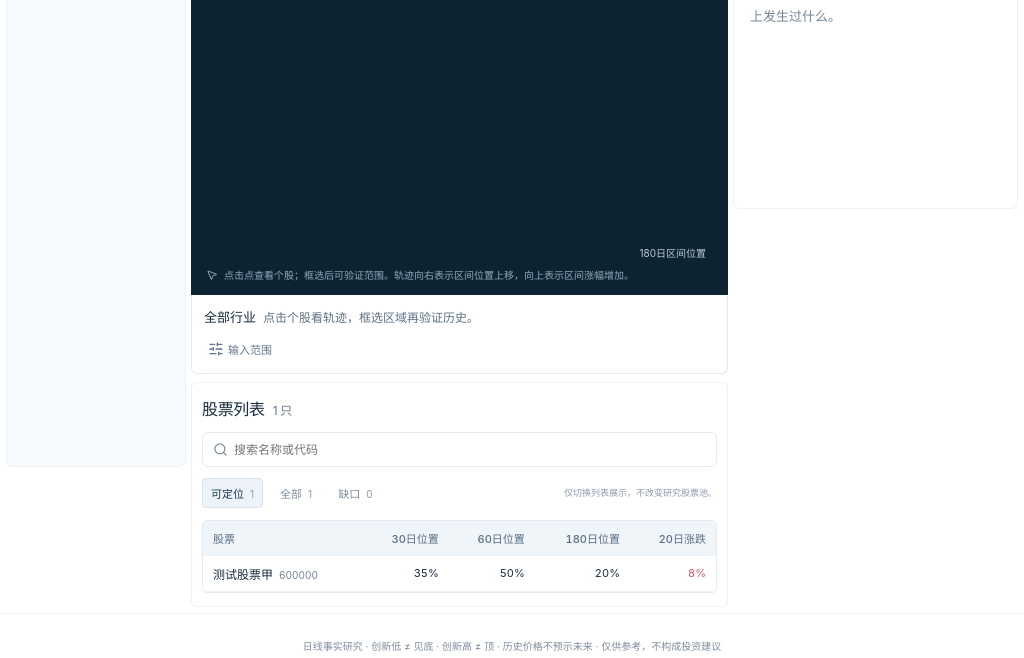
Scenario: trend discovery to reproducible research › makes shape distance an explicit choice and carries the selected reference into frozen research
The image size is (1024, 658).
(page scrolled)
Click the button with aria-label "查看 测试股票甲 600000": (265, 573) x1=213 y1=565 x2=318 y2=582
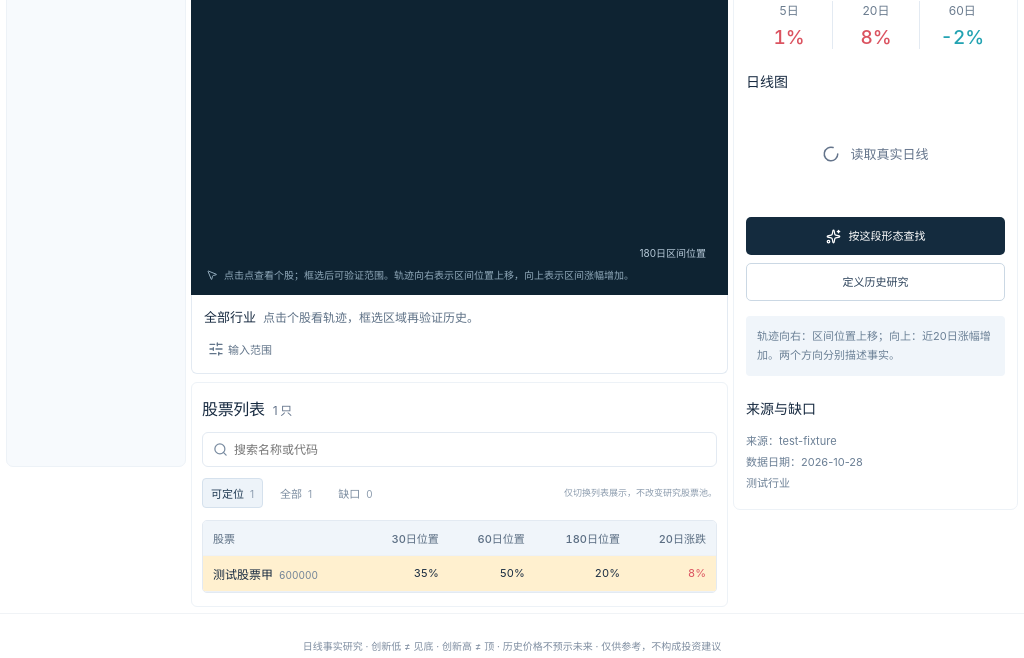
Click the button "按这段形态查找": (876, 236) x1=746 y1=218 x2=1005 y2=256
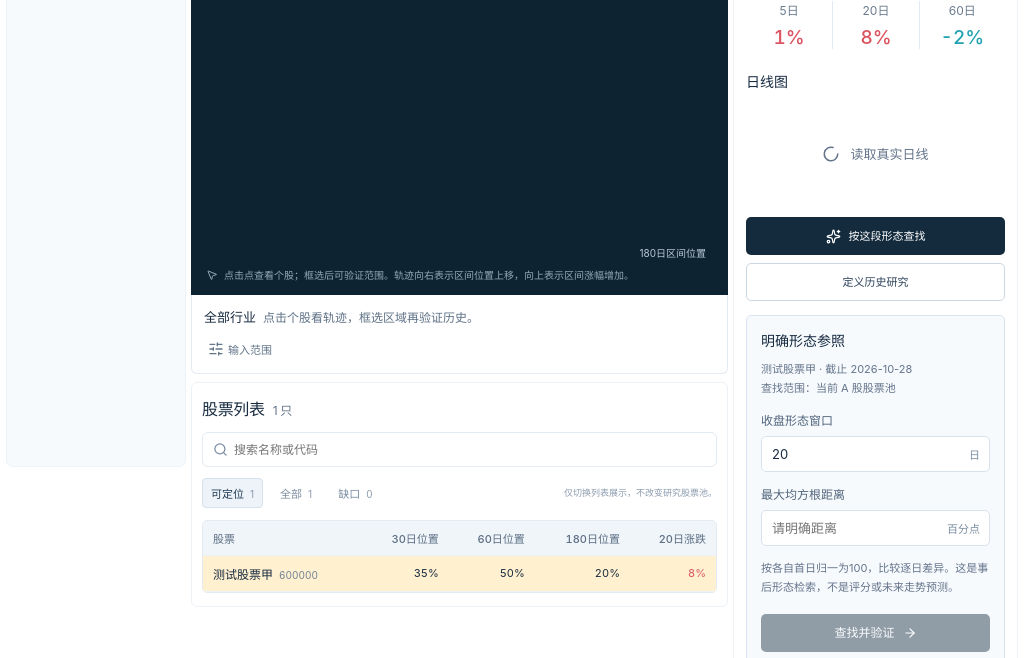
Now the button "查找并验证" is disabled, box x1=761 y1=614 x2=990 y2=652
In the number field labelled "最大均方根距离 百分点": (854, 528) x1=762 y1=511 x2=947 y2=545, type "2.5"
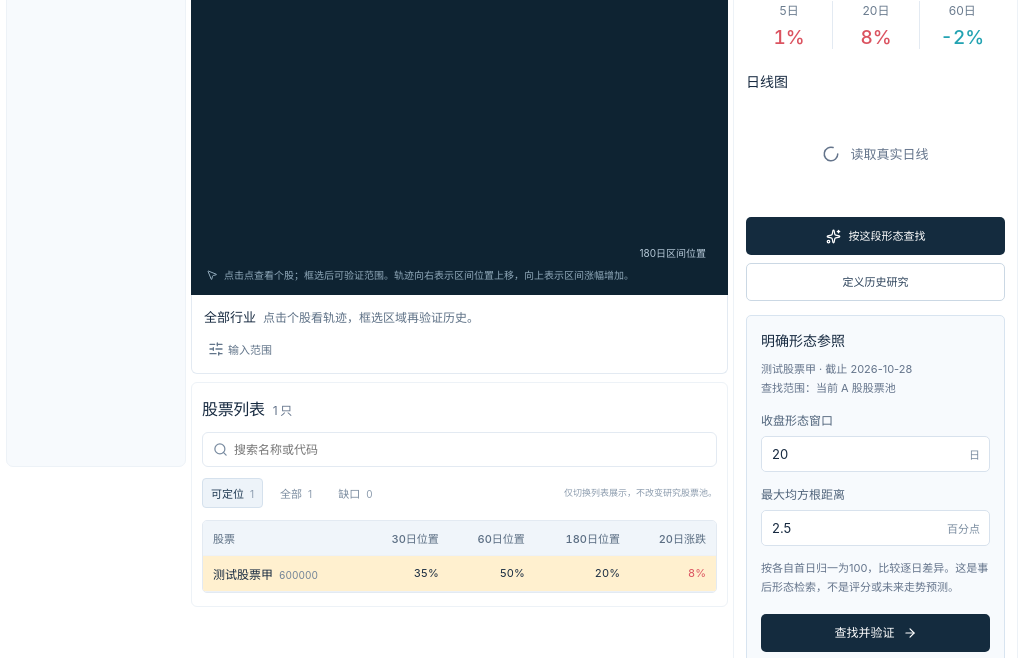
Click the button "查找并验证": (876, 633) x1=761 y1=614 x2=990 y2=652
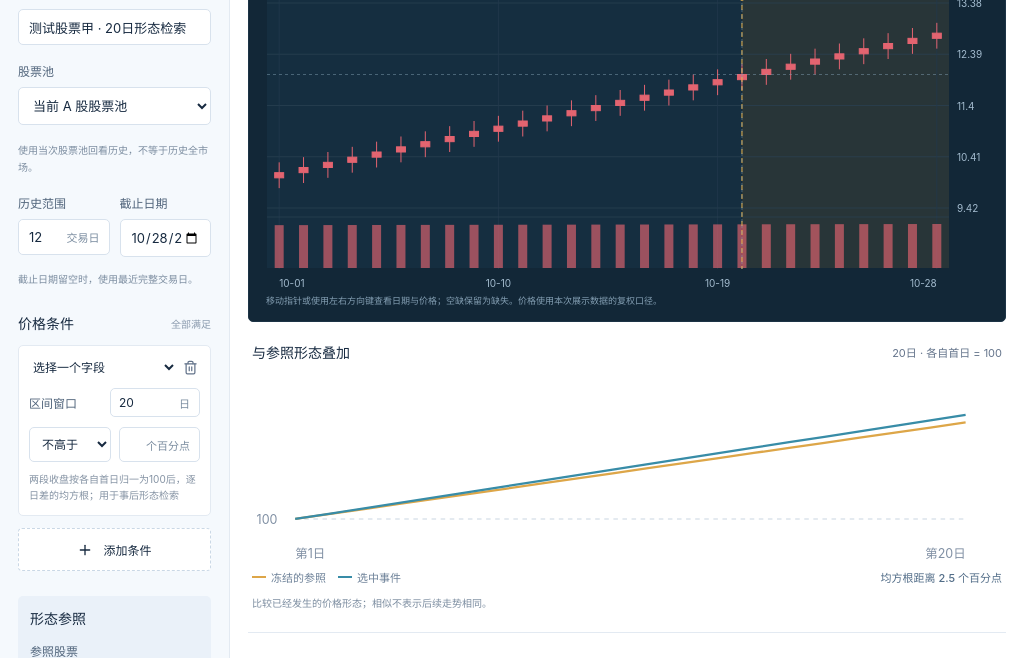
Now the heading "与参照形态叠加" is shown, box x1=252 y1=342 x2=350 y2=362
Now the text "比较已经发生的价格形态；相似不表示后续走势相同。" is shown, box x1=252 y1=597 x2=492 y2=609
